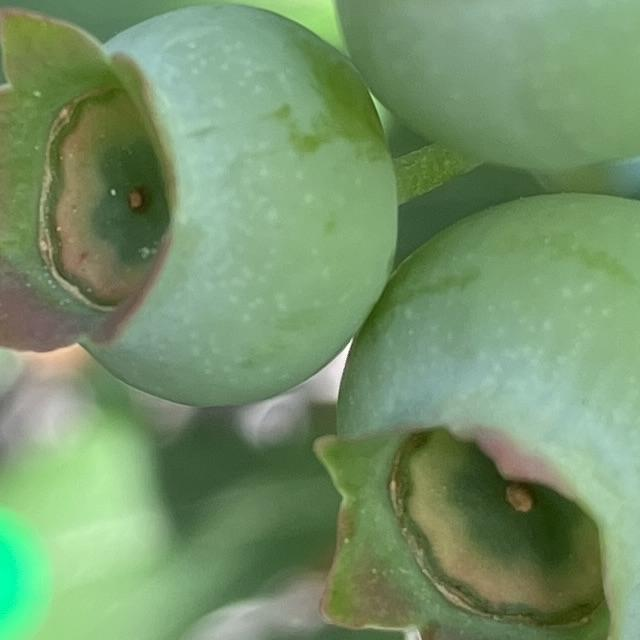Blueberries: (0, 0, 412, 423), (299, 174, 640, 640), (270, 0, 640, 177)
